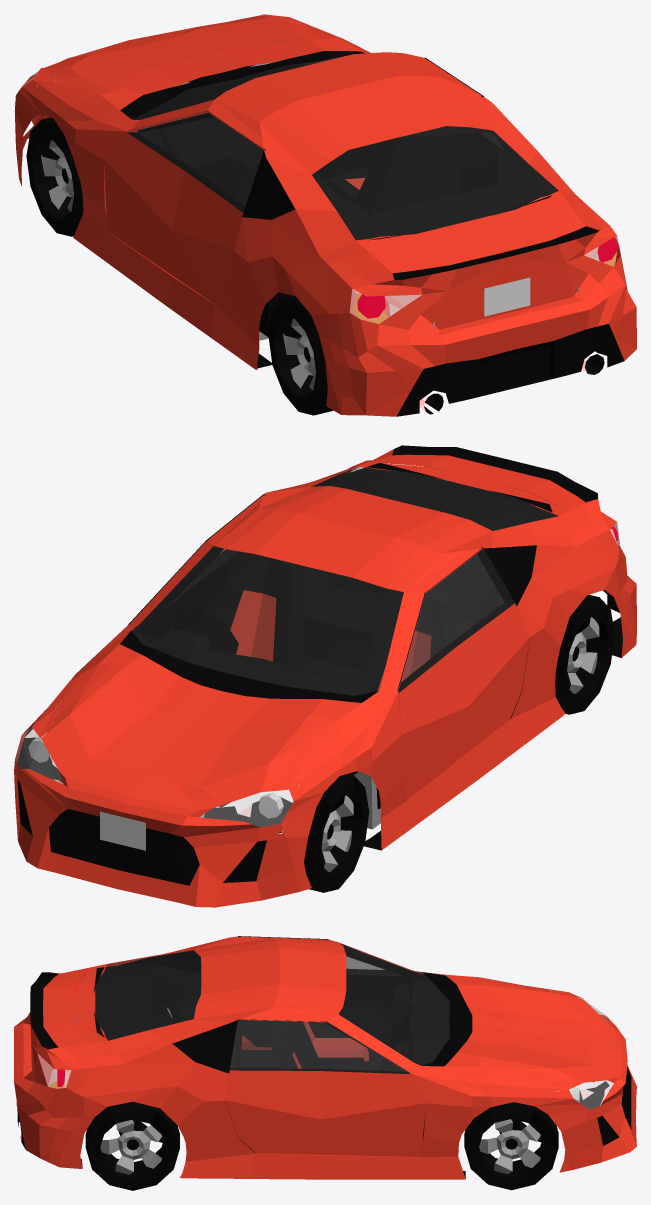
The picture shows the model from 3 angles, top to bottom: view 1: azimuth 30°, elevation 25°; view 2: azimuth 150°, elevation 25°; view 3: azimuth 270°, elevation 25°; orthographic projection. The views are drawn at different scales.
Visible parts, largest first — view 1: body, door_L, interior, trunk, hood, seat_R, wheel_RL, wheel_FL, taillight, door_R, number_R, seat_L (+1 smaller); view 2: body, hood, front, interior, door_L, seat_R, wheel_FL, trunk, wheel_RL, seat_L, headlight, door_R (+3 smaller); view 3: body, door_R, hood, interior, wheel_RR, wheel_FR, front, door_L, trunk, seat_L, seat_R, headlight (+2 smaller).
Part boxes in pixels (box(x1,y1,x2,y2)): body: box(14, 14, 636, 416); door_L: box(104, 111, 266, 303); interior: box(133, 53, 558, 337); trunk: box(369, 203, 597, 329); hood: box(53, 16, 369, 121); seat_R: box(326, 134, 460, 216); wheel_RL: box(268, 295, 333, 415); wheel_FL: box(26, 117, 83, 236); taillight: box(349, 237, 618, 323); door_R: box(425, 57, 505, 193); number_R: box(484, 277, 530, 316); seat_L: box(223, 158, 260, 205); body: box(15, 449, 636, 891); hood: box(52, 631, 379, 810); front: box(14, 727, 298, 907); interior: box(132, 462, 558, 809); door_L: box(397, 547, 530, 801); seat_R: box(213, 551, 305, 670); wheel_FL: box(304, 774, 369, 892); trunk: box(369, 445, 598, 511); wheel_RL: box(555, 594, 614, 714); seat_L: box(361, 590, 458, 690); headlight: box(17, 722, 298, 833); door_R: box(128, 494, 265, 636); body: box(14, 936, 588, 1179); door_R: box(225, 1019, 426, 1156); hood: box(422, 972, 618, 1081); interior: box(94, 943, 466, 1138); wheel_RR: box(85, 1101, 179, 1190); wheel_FR: box(464, 1102, 558, 1190); front: box(569, 997, 636, 1169); door_L: box(238, 936, 411, 1047); trunk: box(30, 967, 90, 1070); seat_L: box(280, 1021, 368, 1063); seat_R: box(270, 1023, 310, 1068); headlight: box(556, 1080, 609, 1109).
Bounding box in the file's own units: 513 × 228 × 155.
